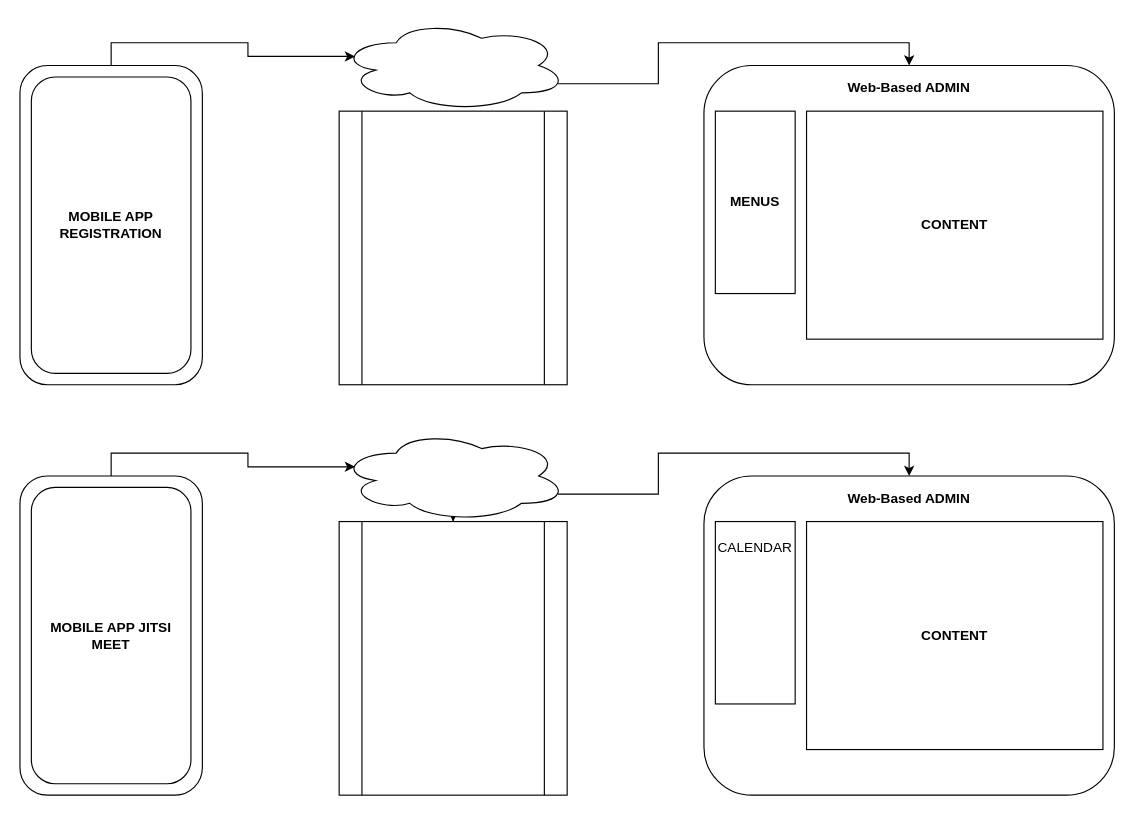
Image size: 1134x815. Some labels were removed from this diagram. Here are the shapes that lost their labels. From the top down, the centre of each, then its label:
At (452,65): "FIREBASE DATABASE".
At (452,247): "DATABASE ATTRIBUTES:".
At (452,475): "Jitsi Server".
